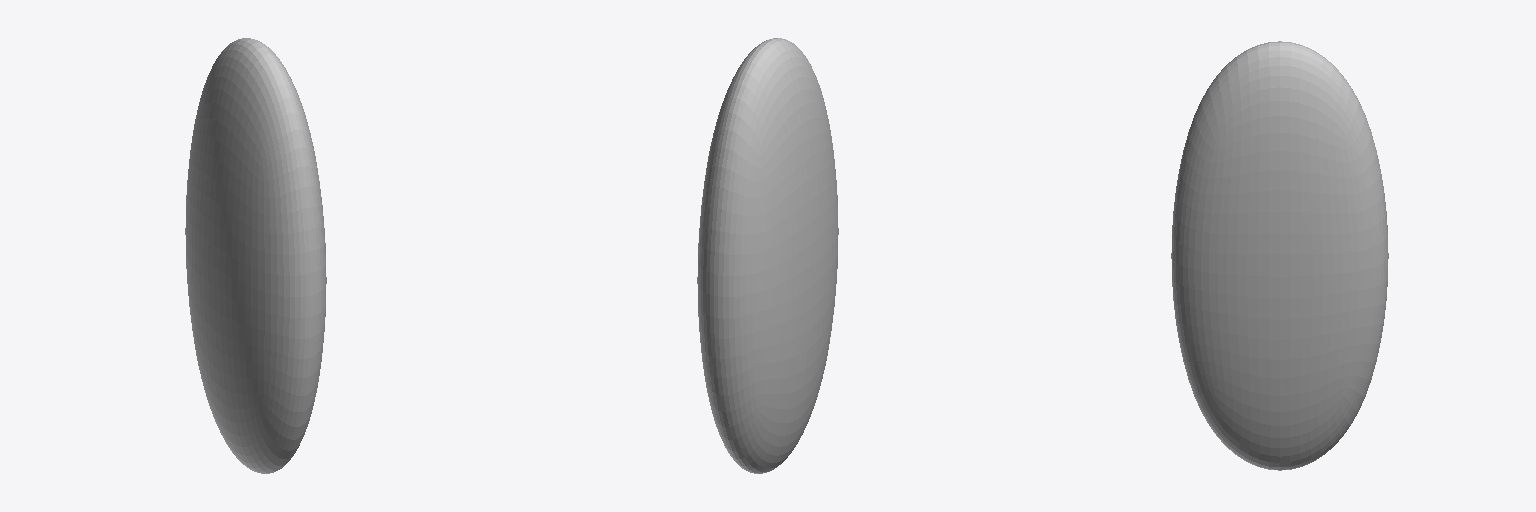
File: Arms_001.obj
3 renders of one model, left to right at view 1: azimuth 30°, elevation 25°; view 2: azimuth 150°, elevation 25°; view 3: azimuth 270°, elevation 25°, orthographic.
Parts seen in each view (by area): view 1: Arms.001_Cube.002; view 2: Arms.001_Cube.002; view 3: Arms.001_Cube.002.
Boxes of the visible parts, x1,y1,x2,y2 form: Arms.001_Cube.002: [185, 38, 326, 473]; Arms.001_Cube.002: [697, 38, 838, 473]; Arms.001_Cube.002: [1171, 41, 1388, 470].
Bounding box in the file's own units: 0.1338 × 0.6447 × 0.2972.